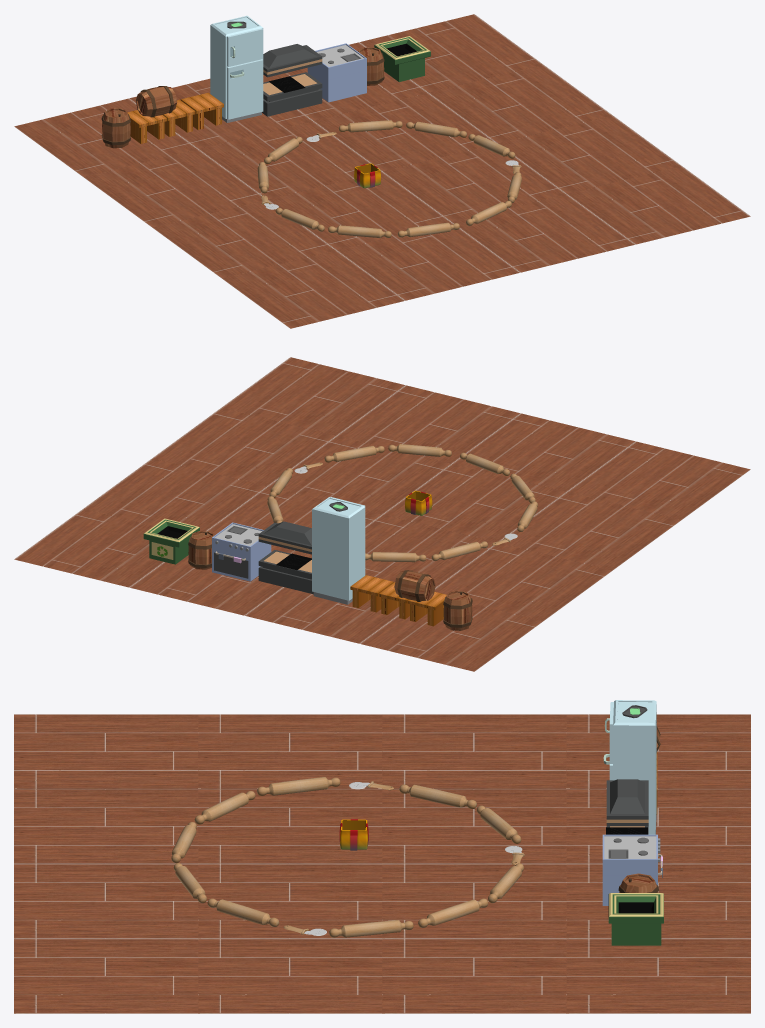
The model's file is _ChirpyWinged_Chirpy Winged_map.fbx.
3 renders of one model, top to bottom at view 1: azimuth 30°, elevation 25°; view 2: azimuth 150°, elevation 25°; view 3: azimuth 270°, elevation 25°, orthographic. The views are drawn at different scales.
Parts seen in each view (by area): view 1: San, Tulanh, Bang chuyen, May rua bat, thung rac, thung ruou, thung ruou.001, ban bep.002, ban bep, ban bep.001, thung ruou.002, Cube.017_Material.001_0 (+4 smaller); view 2: San, Tulanh, Bang chuyen, May rua bat, thung rac, thung ruou, thung ruou.001, ban bep.002, thung ruou.002, ban bep, ban bep.001, Cube.017_Material.001_0 (+3 smaller); view 3: San, Tulanh, May rua bat, thung rac, Bang chuyen, canbot.002, canbot.007, canbot.008, Cube.017_Material.001_0, canbot.003, canbot.010, canbot.006 (+5 smaller).
Part boxes in pixels (x1,y1,x2,y2): San: [14, 14, 750, 328]; Tulanh: [210, 15, 263, 122]; Bang chuyen: [262, 44, 322, 116]; May rua bat: [307, 43, 366, 102]; thung rac: [374, 36, 430, 81]; thung ruou: [101, 108, 130, 148]; thung ruou.001: [136, 86, 177, 117]; ban bep.002: [180, 92, 223, 129]; ban bep: [127, 110, 166, 143]; ban bep.001: [163, 99, 195, 136]; thung ruou.002: [358, 47, 384, 85]; Cube.017_Material.001_0: [354, 163, 381, 188]; San: [14, 357, 750, 671]; Tulanh: [312, 497, 365, 604]; Bang chuyen: [258, 521, 313, 594]; May rua bat: [212, 522, 271, 581]; thung rac: [143, 518, 199, 564]; thung ruou: [443, 590, 472, 630]; thung ruou.001: [394, 570, 435, 601]; ban bep.002: [350, 575, 393, 612]; thung ruou.002: [188, 531, 214, 569]; ban bep: [407, 592, 446, 626]; ban bep.001: [379, 582, 409, 619]; Cube.017_Material.001_0: [405, 490, 432, 515]; San: [14, 714, 750, 1013]; Tulanh: [603, 700, 656, 834]; May rua bat: [602, 834, 662, 905]; thung rac: [608, 893, 663, 945]; Bang chuyen: [606, 779, 648, 834]; canbot.002: [329, 920, 413, 937]; canbot.007: [257, 777, 340, 795]; canbot.008: [399, 784, 476, 808]; Cube.017_Material.001_0: [339, 819, 368, 850]; canbot.003: [207, 898, 279, 926]; canbot.010: [418, 898, 488, 927]; canbot.006: [194, 791, 255, 824].
Size of the model in its own units: 18.07 by 3.46 by 18.79.
15 materials, 8 textured.
